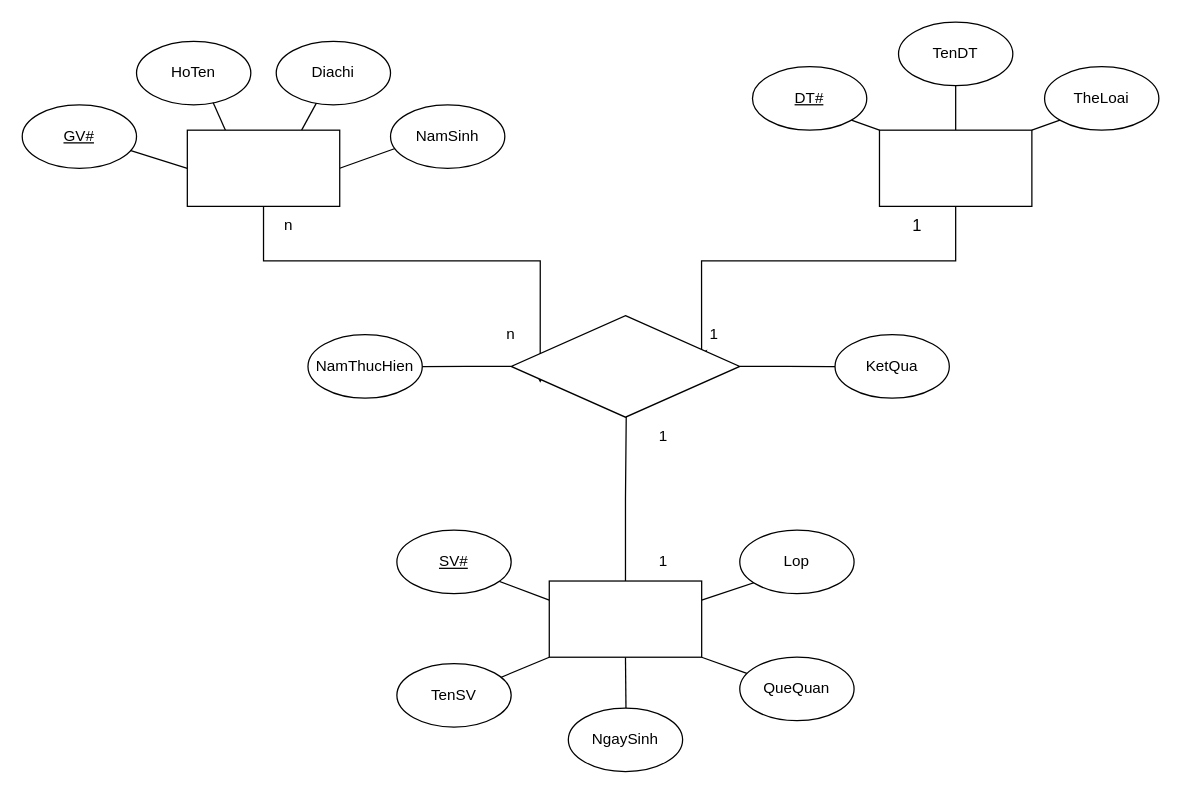
Some shapes in this 1181 by 794 pixel diagram are drawn without their labels. Each missing label, with the box of its shape:
GIÁO VIÊN: (186, 129, 340, 206)
HƯỚNG DẪN: (510, 314, 740, 417)
SINH VIÊN: (548, 580, 702, 657)
ĐỀ TÀI: (878, 129, 1032, 206)
